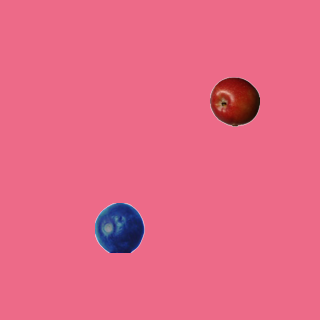Apple Braeburn: (209, 76, 259, 126)
Huckleberry: (94, 202, 144, 252)
